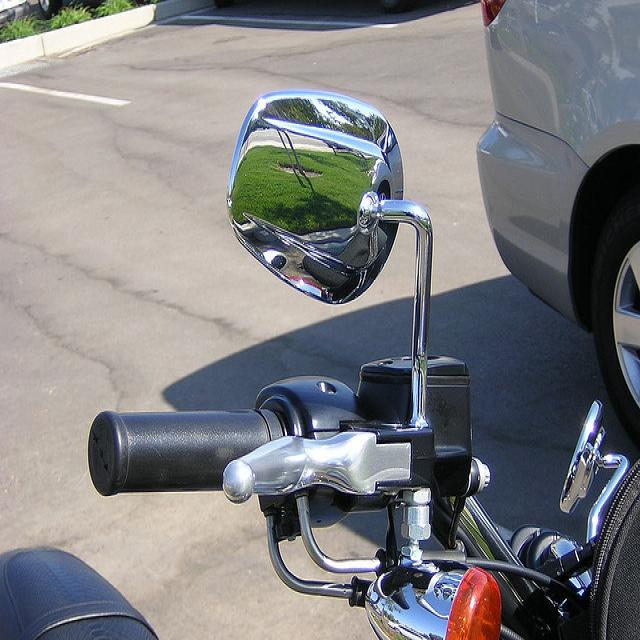motor: (0, 90, 640, 634)
